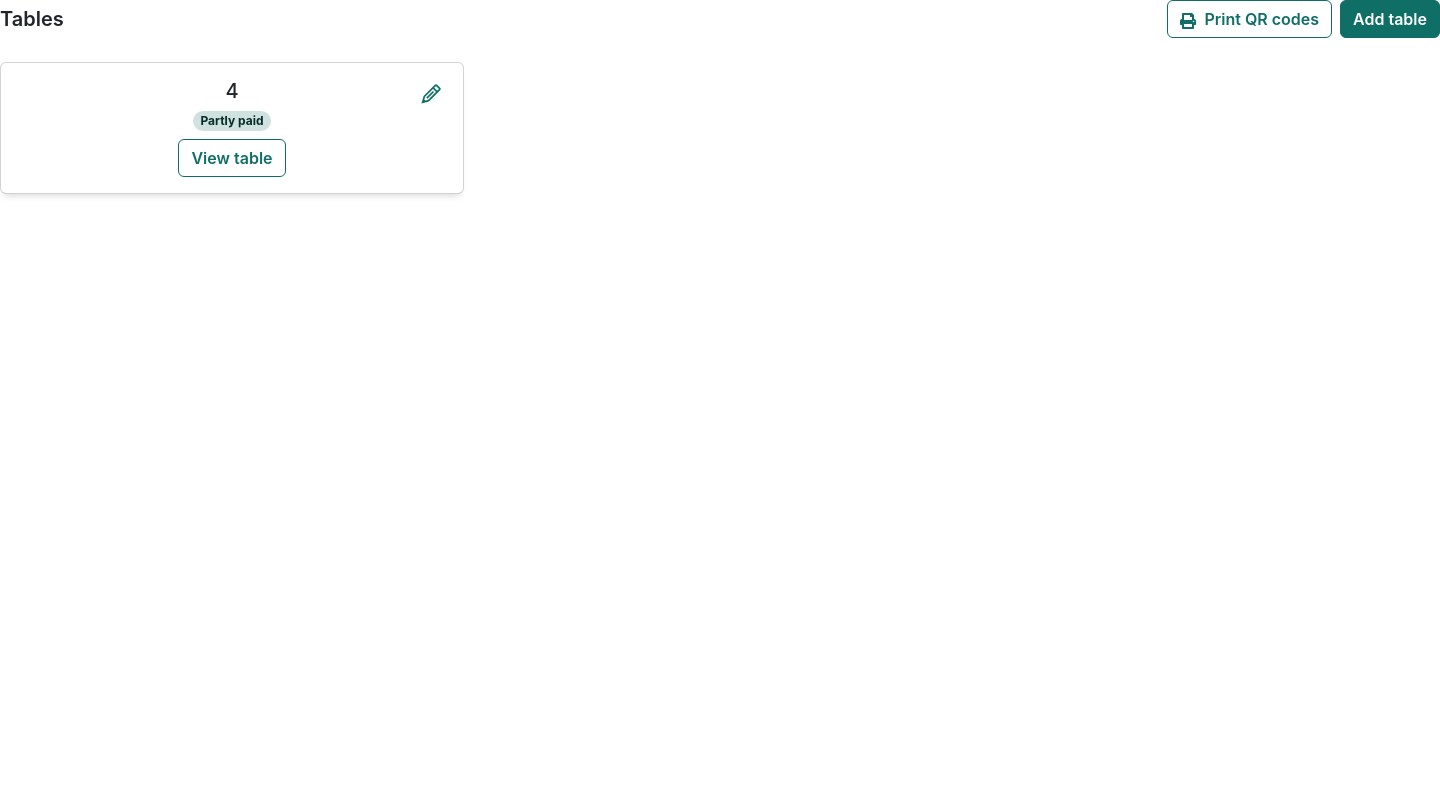
Scenario: a card payment on the table sheet › names Stripe for one it hasn't confirmed, and when checking it
The image size is (1440, 810).
Click the button with aria-label "View table 4" at [232, 158], box [178,139,286,177]
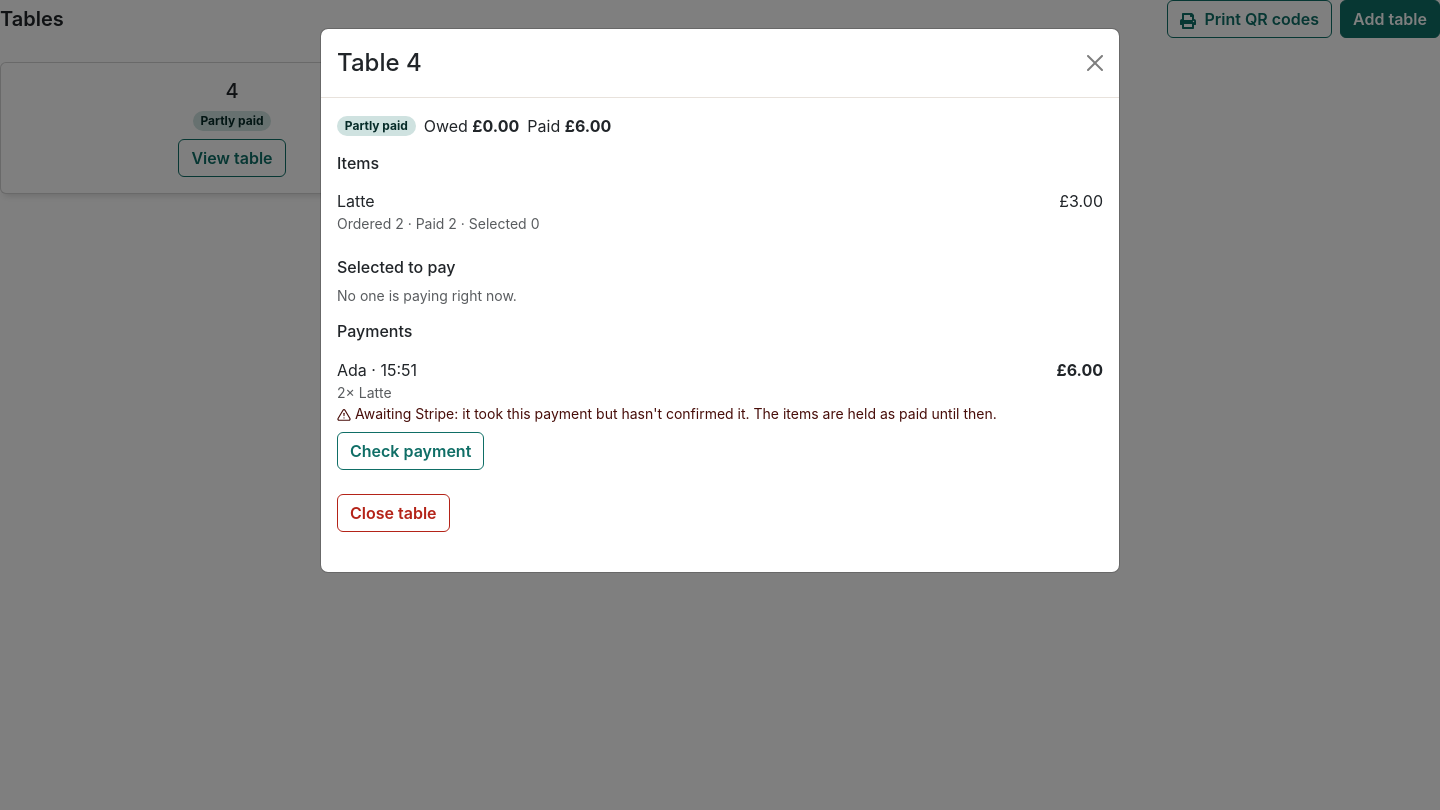
Check: the text "Awaiting Stripe" shows "Awaiting Stripe: it took this payment but hasn't confirmed it. The items are held as paid until then.", box [337,403,1103,470]
Click the button with aria-label "Check Ada's payment of £6.00 with Stripe" at [411, 451], box [337,432,484,470]
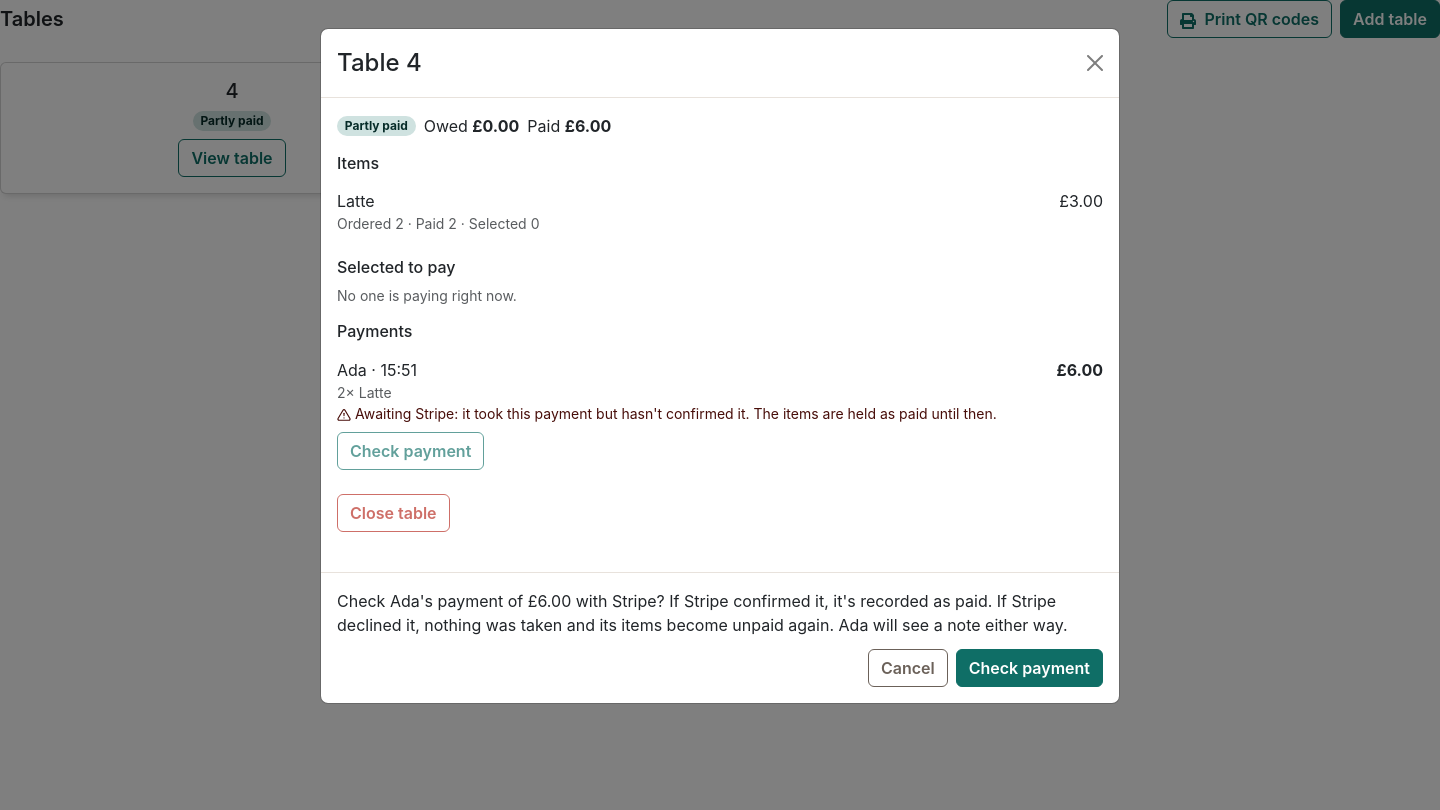
Check: the text "Check Ada's payment of £6.00 with Stripe? If Stripe confirmed it, it's recorded as paid. If Stripe declined it, nothing " is shown, box [337,591,1068,635]
